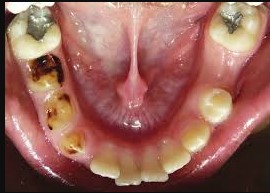LL1BC_healthy: (203, 89, 230, 122)
LL1M_decay: (208, 3, 263, 47)
LLCI_healthy: (141, 148, 169, 183)
LLC_healthy: (182, 120, 211, 149)
LLLI_healthy: (161, 141, 191, 174)
LR1BC_decay: (43, 95, 76, 129)
LR1M_decay: (11, 7, 62, 56)
LR2BC_decay: (28, 56, 65, 91)
LRCI_healthy: (116, 155, 142, 187)
LRC_healthy: (61, 128, 88, 157)
LRLI_healthy: (91, 149, 119, 180)
